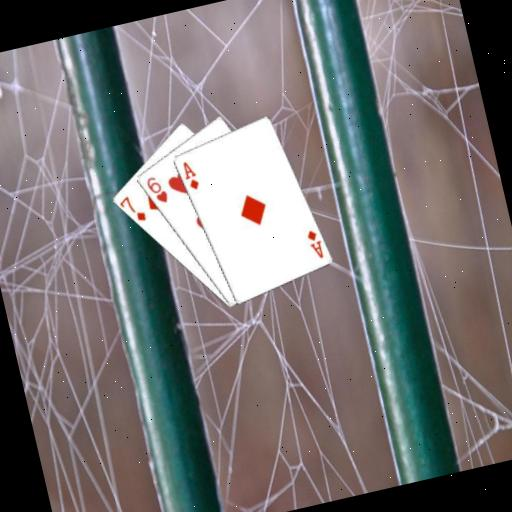6H: (142, 171, 170, 208)
7D: (115, 190, 148, 227)
AD: (178, 157, 202, 193), (302, 226, 325, 262)
